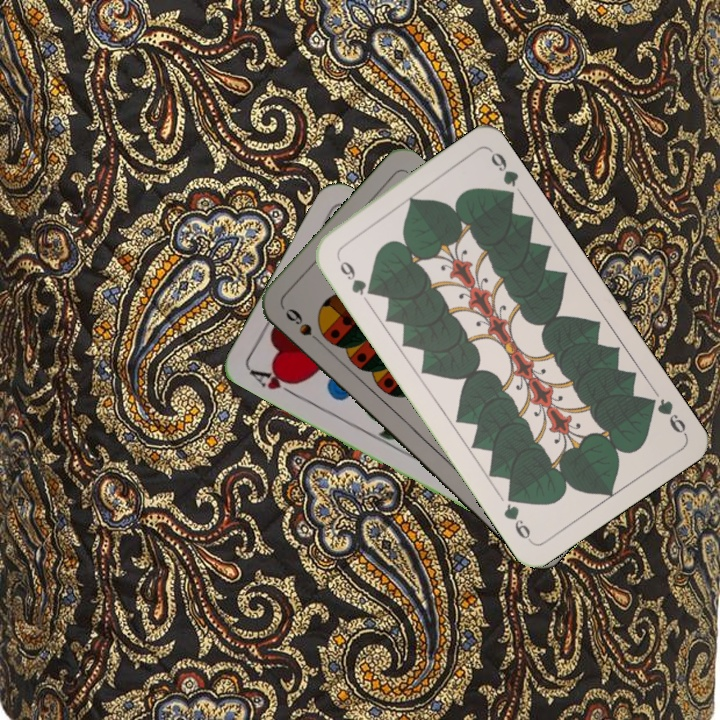G9: (641, 393, 689, 438), (335, 256, 377, 299)
HA: (245, 364, 301, 400)
S9: (281, 304, 328, 349)
